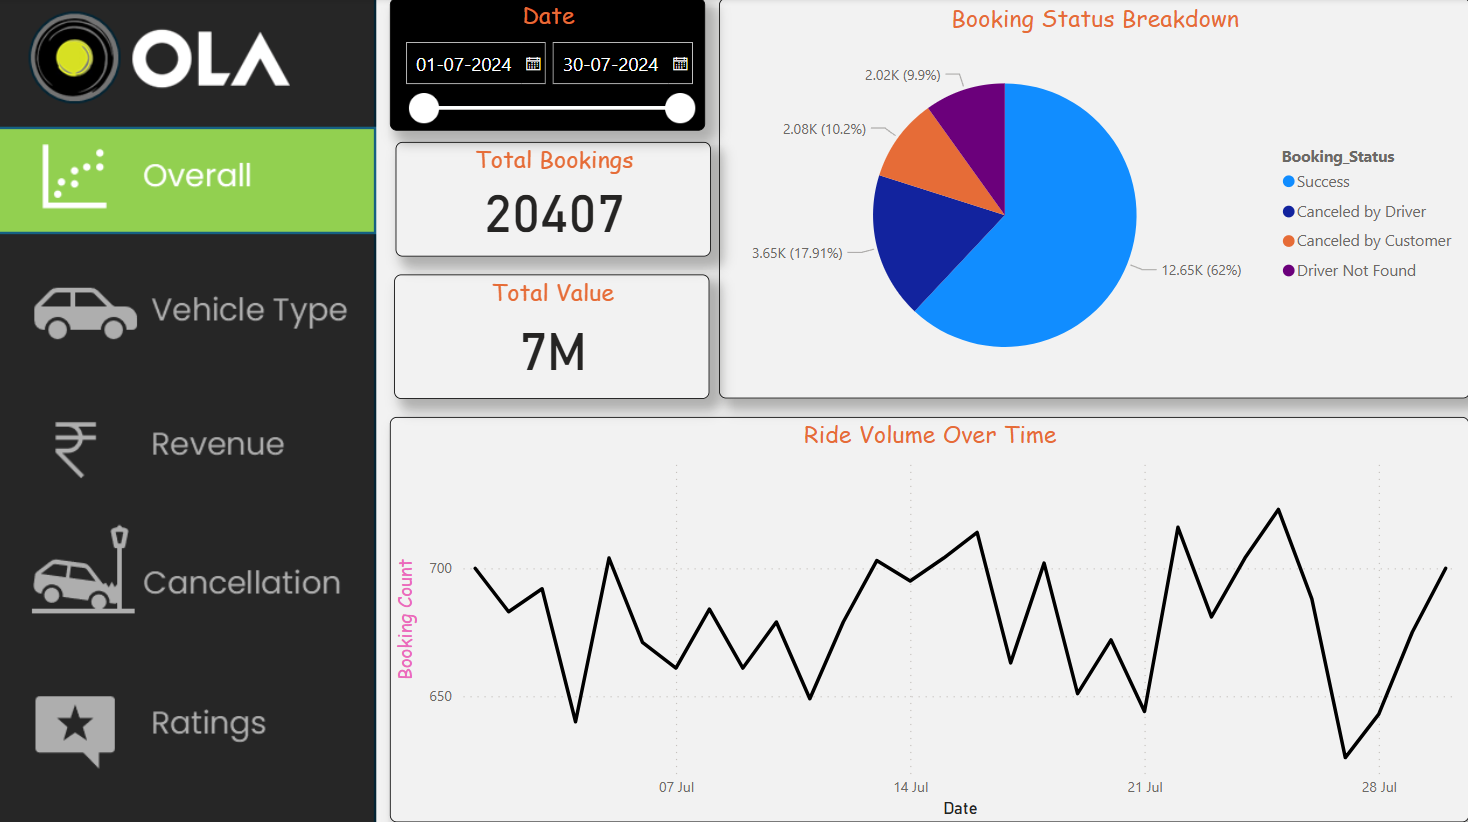

The page's visual inventory and layout, read from the dashboard file:
{"tool":"powerbi","page":{"name":"Overall","canvas":[1280,720],"ordinal":0},"visuals":[{"type":"actionButton","box":[0,225.9,324.8,86.7],"z":0},{"type":"actionButton","box":[0,341.9,324.8,86.7],"z":1000},{"type":"actionButton","box":[0,446.9,324.8,86.7],"z":2000},{"type":"actionButton","box":[0,582.5,324.8,86.7],"z":3000},{"type":"lineChart","title":"Ride Volume Over Time","fields":{"Y":["CountNonNull(Bookings (2).Booking_ID)"],"Category":["Bookings (2).Date"]},"box":[335.6,359.5,925.2,347.6],"z":4000},{"type":"pieChart","title":"Booking Status Breakdown","fields":{"Category":["Bookings (2).Booking_Status"],"Y":["CountNonNull(Bookings (2).Booking_ID)"]},"box":[618.1,0,643.3,343.4],"z":5000},{"type":"slicer","title":"Date","fields":{"Values":["Bookings (2).Date"]},"box":[336.4,0,270.5,114],"z":6000},{"type":"card","title":"Total Bookings","fields":{"Values":["CountNonNull(Bookings (2).Booking_Status)"]},"box":[340.6,123.3,270.5,98.1],"z":7000},{"type":"card","title":"Total Value","fields":{"Values":["Sum(Bookings (2).Booking_Value)"]},"box":[339.2,236.9,270.5,106.5],"z":8000}]}

Visuals, with their boxes in screenshot pixels (x1, y1, x2, y2), scaled from the page's 1280x720 canvas onto the 1468x822 screenshot:
actionButton: <region>0, 258, 373, 357</region>
actionButton: <region>0, 390, 373, 489</region>
actionButton: <region>0, 510, 373, 609</region>
actionButton: <region>0, 665, 373, 764</region>
"Ride Volume Over Time" lineChart: <region>385, 410, 1446, 807</region>
"Booking Status Breakdown" pieChart: <region>709, 0, 1447, 392</region>
"Date" slicer: <region>386, 0, 696, 130</region>
"Total Bookings" card: <region>391, 141, 701, 253</region>
"Total Value" card: <region>389, 270, 699, 392</region>
